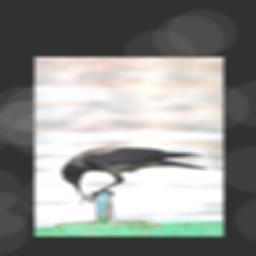Crow: (61, 145, 209, 199)
